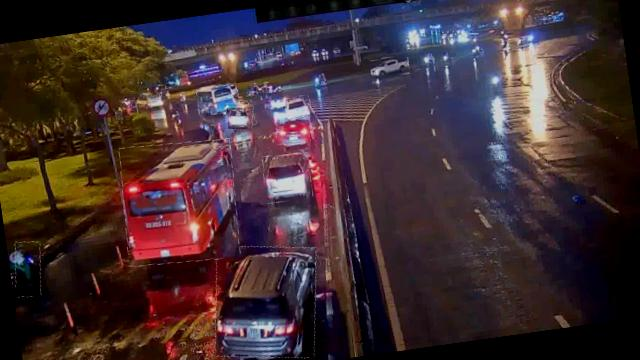Bike: (10, 240, 44, 298)
Bus: (114, 134, 244, 270), (196, 82, 240, 116), (276, 95, 312, 123), (224, 101, 255, 132)
Car: (203, 235, 325, 360), (261, 151, 314, 204), (274, 112, 312, 146), (223, 100, 256, 132), (369, 55, 408, 78)
